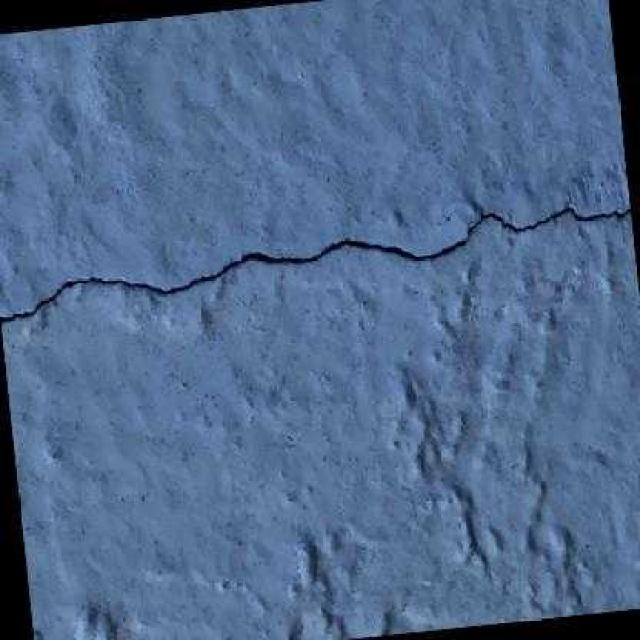D00: (0, 193, 631, 331)
